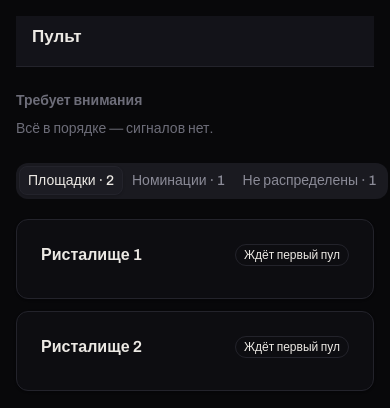
Test case: ConsoleScreen — мобильные вкладки и раскладка планшета (спека 0045) › T10: переключение вкладки меняет видимый TabsContent
Expected: the link "Ристалище 1" is shown, [41, 246, 142, 262]
Expected: the text "Длинный меч" is not shown
Step 1. Press the mouse on the tab "Номинации · 1" → (178, 180), box [123, 166, 234, 195]
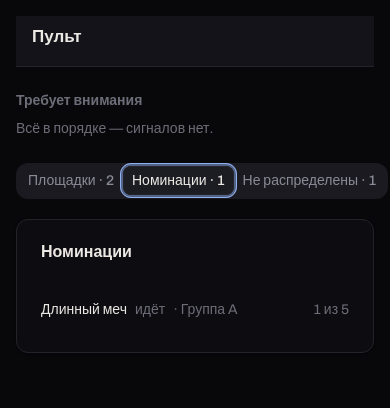
Now the link "Длинный меч" is shown, box [41, 302, 127, 316]
Now the link "Ристалище 1" is gone
Step 2. Press the mouse on the tab "Не распределены · 1" → (309, 180), box [234, 166, 385, 195]
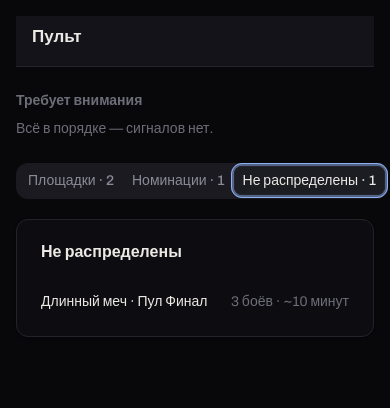
Now the link "Длинный меч · Пул Финал" is shown, box [41, 292, 208, 312]
